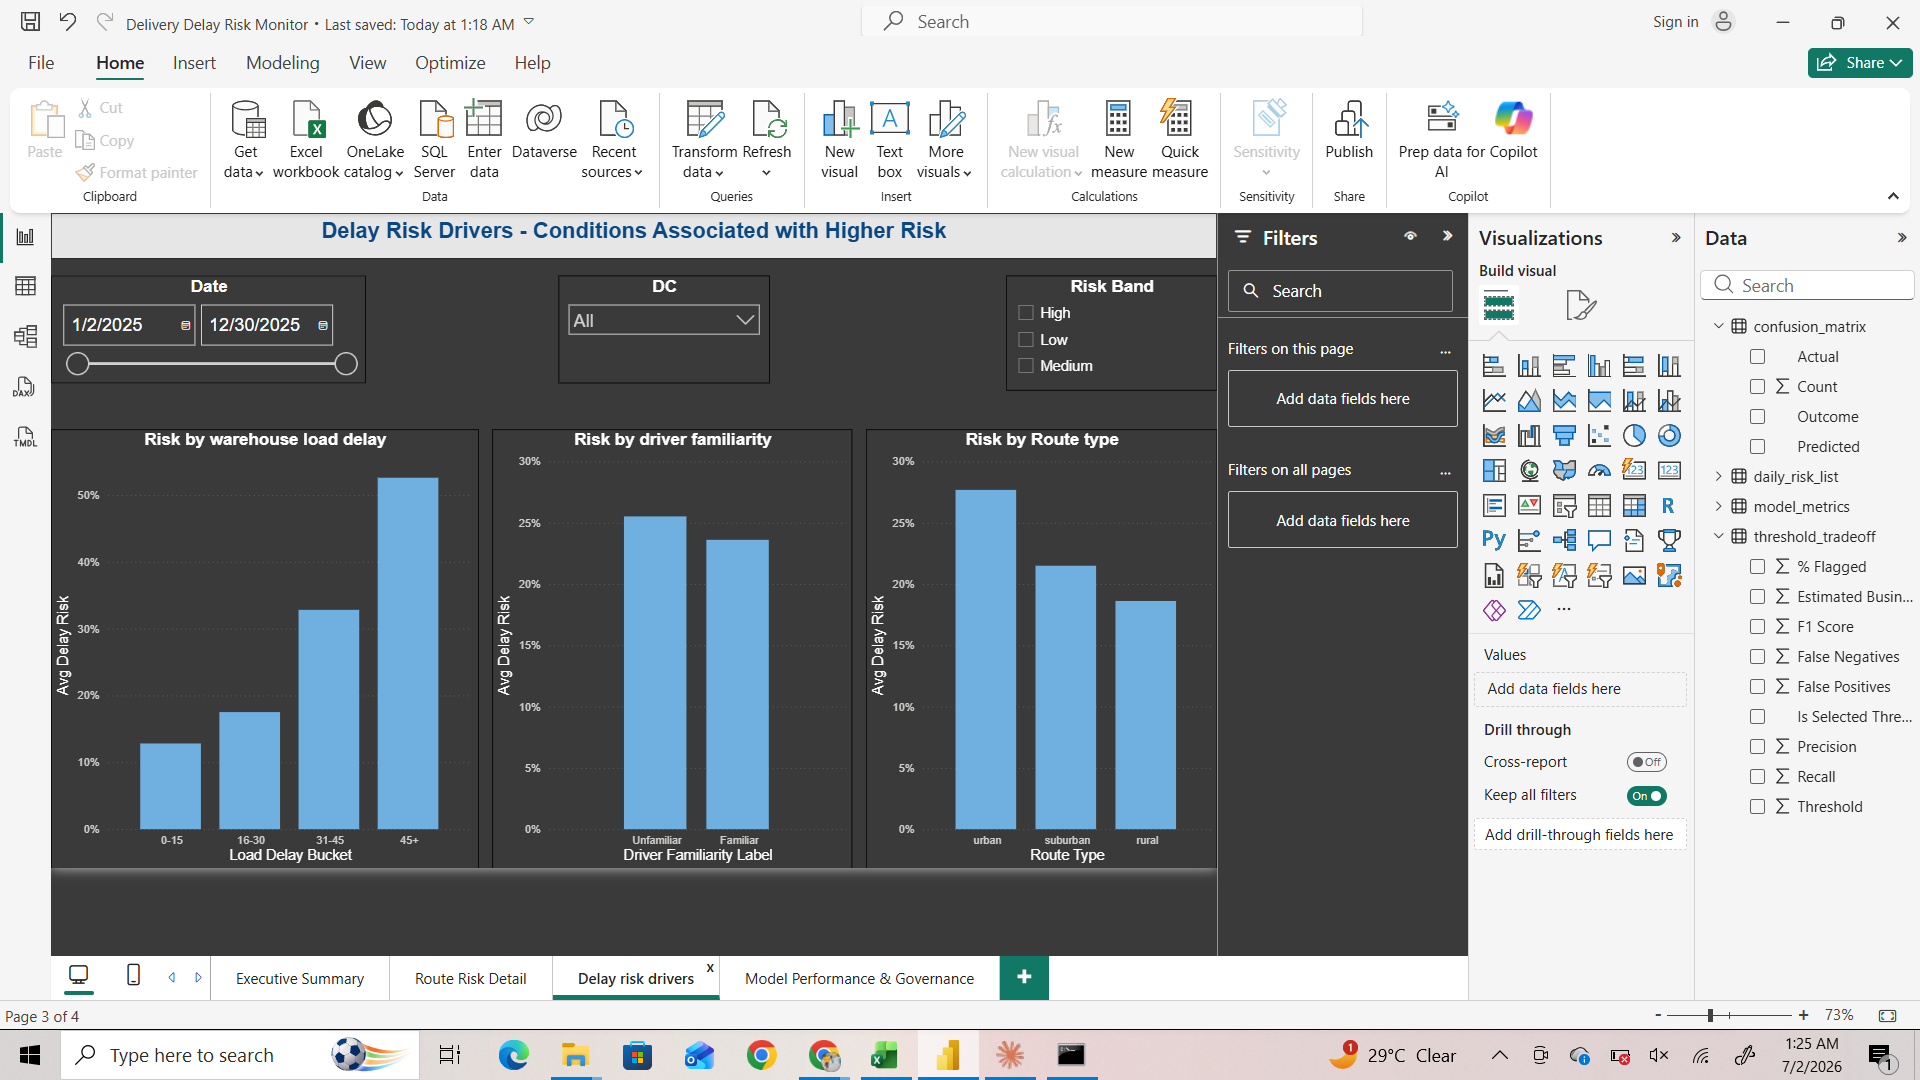

The page's visual inventory and layout, read from the dashboard file:
{"tool":"powerbi","page":{"name":"Root Cause Insights","canvas":[1280,720],"ordinal":2},"visuals":[{"type":"textbox","box":[0,0,1280.3,50.8],"z":0},{"type":"slicer","title":"Date","fields":{"Values":["daily_risk_list.route_date"]},"box":[0,68.6,345.8,118],"z":1},{"type":"slicer","title":"DC","fields":{"Values":["daily_risk_list.dc"]},"box":[557.1,68.6,231.9,118],"z":2},{"type":"slicer","title":"Risk Band","fields":{"Values":["daily_risk_list.risk_band"]},"box":[1048.1,68.6,231.9,126.2],"z":3},{"type":"clusteredColumnChart","title":"Risk by warehouse load delay","fields":{"Category":["daily_risk_list.Load Delay Bucket"],"Y":["daily_risk_list.Avg Delay Risk"]},"box":[0,237.4,469.3,483],"z":4},{"type":"clusteredColumnChart","title":"Risk by driver familiarity","fields":{"Category":["daily_risk_list.driver_route_familiarity"],"Y":["daily_risk_list.Avg Delay Risk"]},"box":[484.4,237.4,395.2,483],"z":5},{"type":"clusteredColumnChart","title":"Risk by Route type","fields":{"Category":["daily_risk_list.route_type"],"Y":["daily_risk_list.Avg Delay Risk"]},"box":[894.7,237.4,385.6,483],"z":6}]}

Visuals, with their boxes on the page's 1280x720 design canvas (x1, y1, x2, y2). These are canvas units, not pixel positions in the 1920x1080 screenshot, which may show the page scaled, cropped or inside an application window:
textbox: {"left": 0, "top": 0, "right": 1280, "bottom": 51}
"Date" slicer: {"left": 0, "top": 69, "right": 346, "bottom": 187}
"DC" slicer: {"left": 557, "top": 69, "right": 789, "bottom": 187}
"Risk Band" slicer: {"left": 1048, "top": 69, "right": 1280, "bottom": 195}
"Risk by warehouse load delay" clusteredColumnChart: {"left": 0, "top": 237, "right": 469, "bottom": 720}
"Risk by driver familiarity" clusteredColumnChart: {"left": 484, "top": 237, "right": 880, "bottom": 720}
"Risk by Route type" clusteredColumnChart: {"left": 895, "top": 237, "right": 1280, "bottom": 720}
